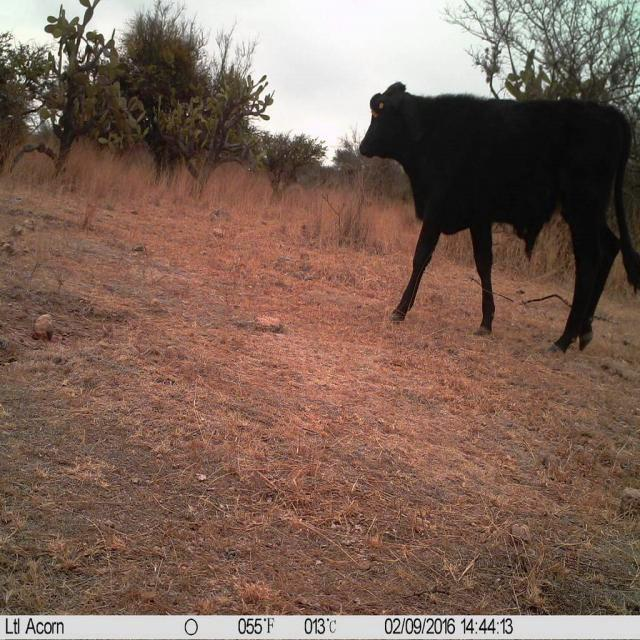cow: (360, 82, 640, 351)
